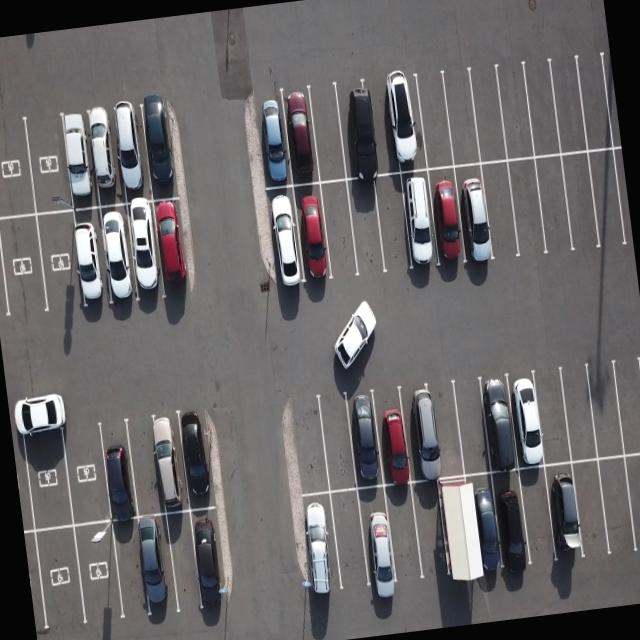car: (449, 472, 506, 588), (484, 467, 536, 578), (296, 488, 346, 601), (354, 478, 402, 590), (332, 76, 381, 180), (189, 506, 237, 612), (65, 204, 111, 314), (134, 514, 182, 618), (150, 196, 198, 300), (400, 381, 448, 484), (177, 410, 225, 513), (543, 457, 590, 562), (369, 388, 417, 490), (422, 164, 467, 271), (476, 376, 524, 475), (342, 391, 389, 492), (98, 199, 142, 306), (396, 168, 441, 272), (452, 161, 496, 267), (292, 180, 336, 286), (96, 420, 140, 526), (501, 371, 548, 468), (384, 76, 430, 175), (266, 185, 308, 293), (280, 85, 324, 188), (146, 412, 190, 514), (124, 199, 166, 305), (141, 98, 183, 198), (110, 102, 151, 204), (56, 108, 96, 206), (87, 107, 126, 207), (256, 90, 294, 190)
free: (18, 411, 74, 533), (60, 414, 116, 526), (72, 522, 127, 627), (30, 524, 84, 630), (34, 208, 86, 318), (123, 414, 177, 518), (511, 464, 562, 574), (430, 474, 480, 586), (328, 486, 377, 598), (564, 457, 614, 563), (378, 482, 426, 591), (0, 213, 47, 323), (590, 454, 638, 560), (24, 112, 73, 215), (106, 518, 152, 622), (406, 480, 452, 584), (555, 148, 600, 254), (506, 155, 552, 258), (588, 147, 632, 254), (306, 80, 352, 182), (286, 396, 332, 498), (477, 159, 522, 263), (317, 393, 363, 494), (582, 361, 628, 462), (532, 150, 576, 254), (372, 172, 416, 274), (319, 180, 362, 284), (556, 362, 601, 461), (448, 378, 493, 477), (162, 508, 204, 614), (342, 177, 386, 277), (544, 55, 588, 155), (532, 368, 576, 466), (424, 381, 468, 478), (521, 59, 564, 157), (496, 62, 539, 160), (576, 51, 618, 150), (412, 74, 454, 172), (441, 69, 483, 167), (466, 67, 508, 165), (364, 77, 404, 175), (0, 113, 34, 220), (611, 355, 640, 457), (622, 451, 640, 556)
